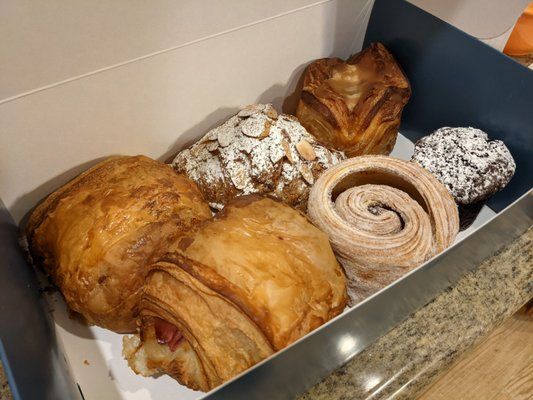sushi: (293, 41, 412, 159), (411, 126, 517, 207)
